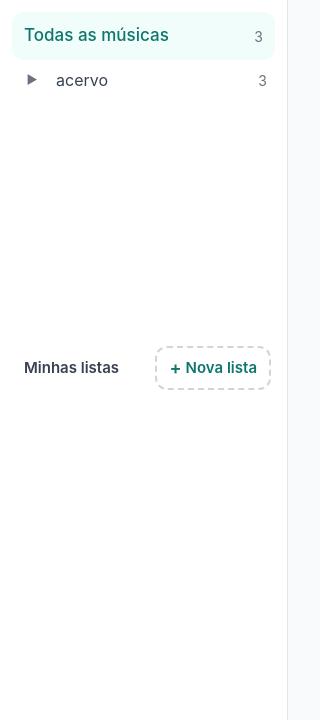
Test: Sidebar — árvore de pastas (V4 F11) › as subpastas nascem FECHADAS: só aparecem depois de abrir a raiz
This screenshot has width=320, height=720.
Click the button named "Abrir pasta acervo".
click(32, 80)  # box [14,60,50,100]
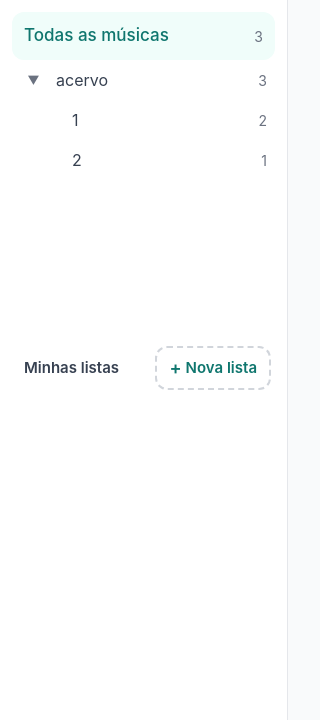
Check: the button named "Pasta 1" shows "2", box [68,100,267,140]
Check: the button named "Pasta 2" shows "1", box [68,140,267,180]
